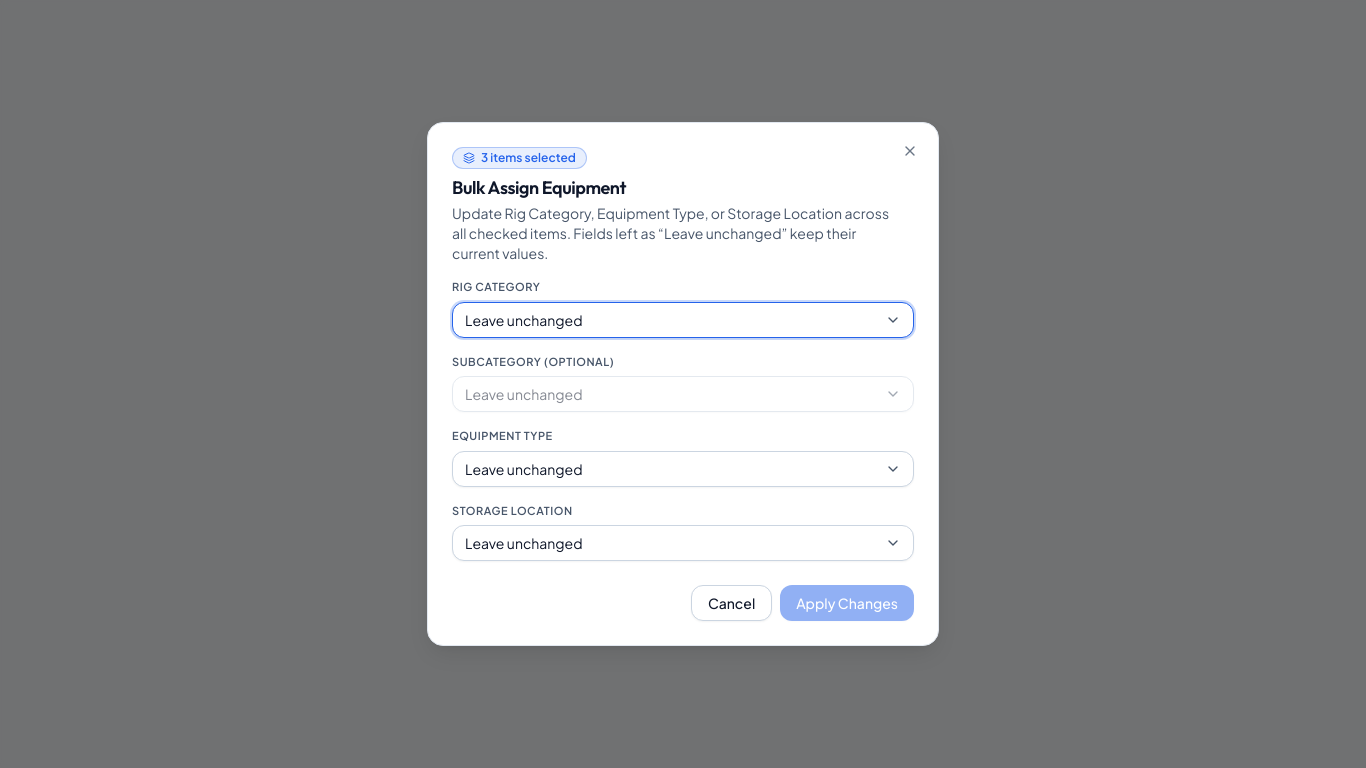
Test case: BulkAssignDialog › requires at least one changed field before enabling Apply and shows selected count
The width and height of the screenshot is (1366, 768).
Later steps or results of the test are not shown.
Expected: the text "3 items selected" is shown, [481, 150, 576, 166]
Expected: the button "Apply Changes" is disabled, [780, 585, 914, 621]
Note: Selecting Rig Category enables Apply and Subcategory when subcategories exist
Click the dropdown named "rig category". click: (524, 320)
box: [452, 302, 914, 338]
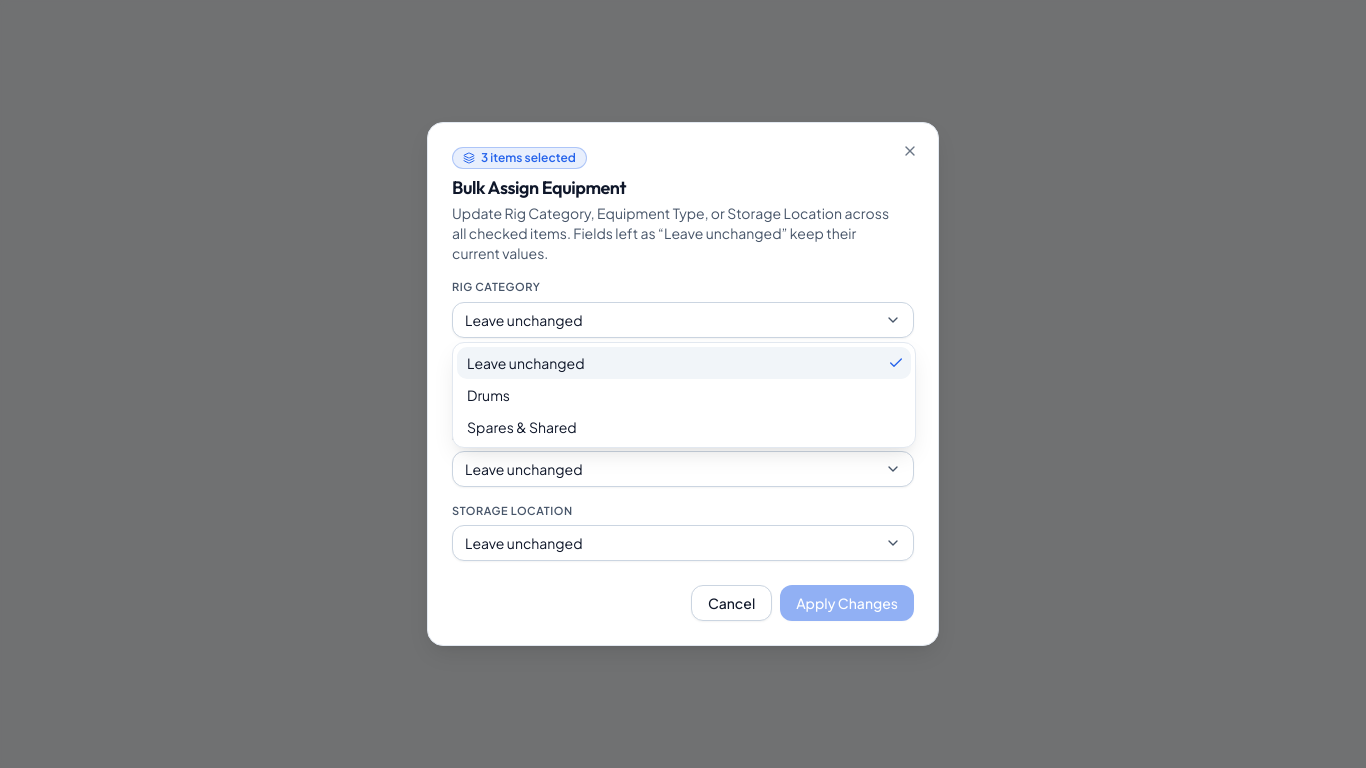
Click the option "Drums". click: (488, 395)
box: [467, 386, 510, 404]
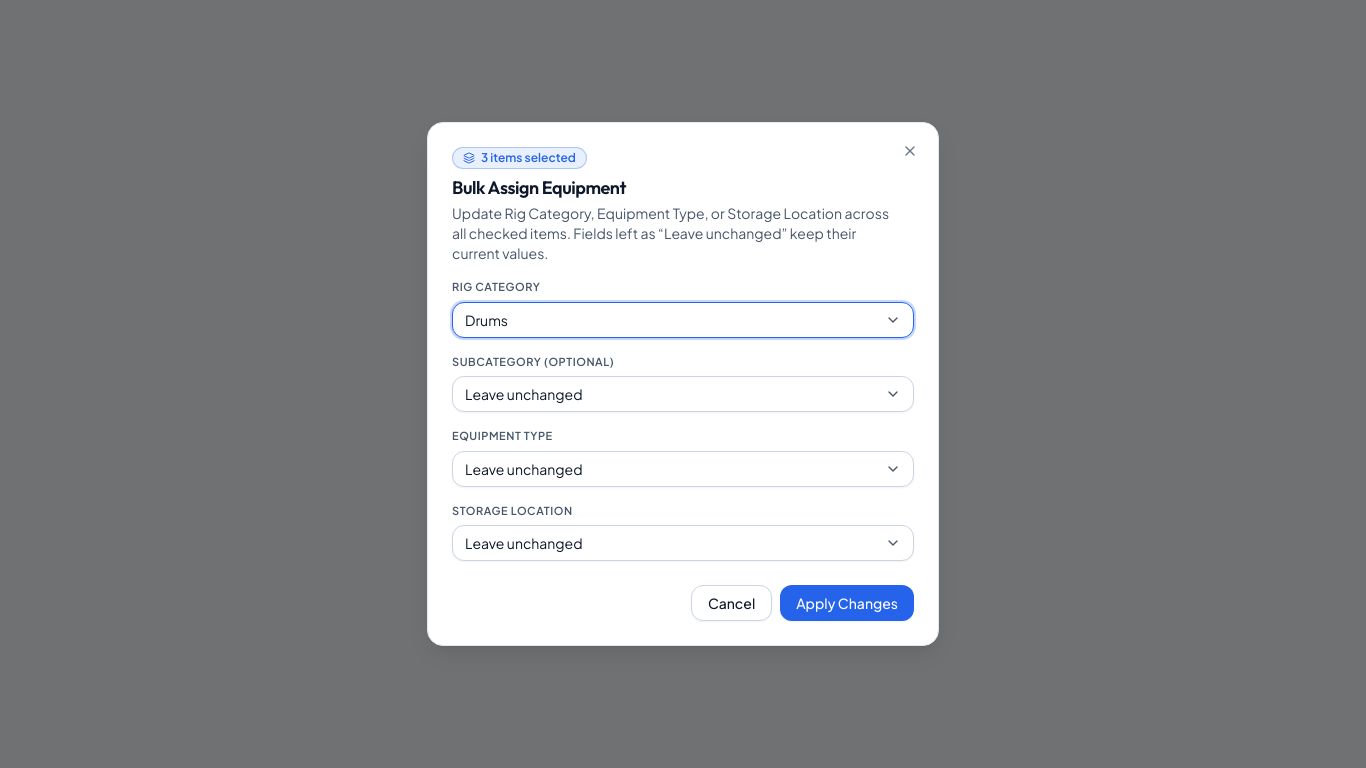
Now the button "Apply Changes" is enabled, box [780, 585, 914, 621]
Now the dropdown named "subcategory" is enabled, box [452, 376, 914, 412]
